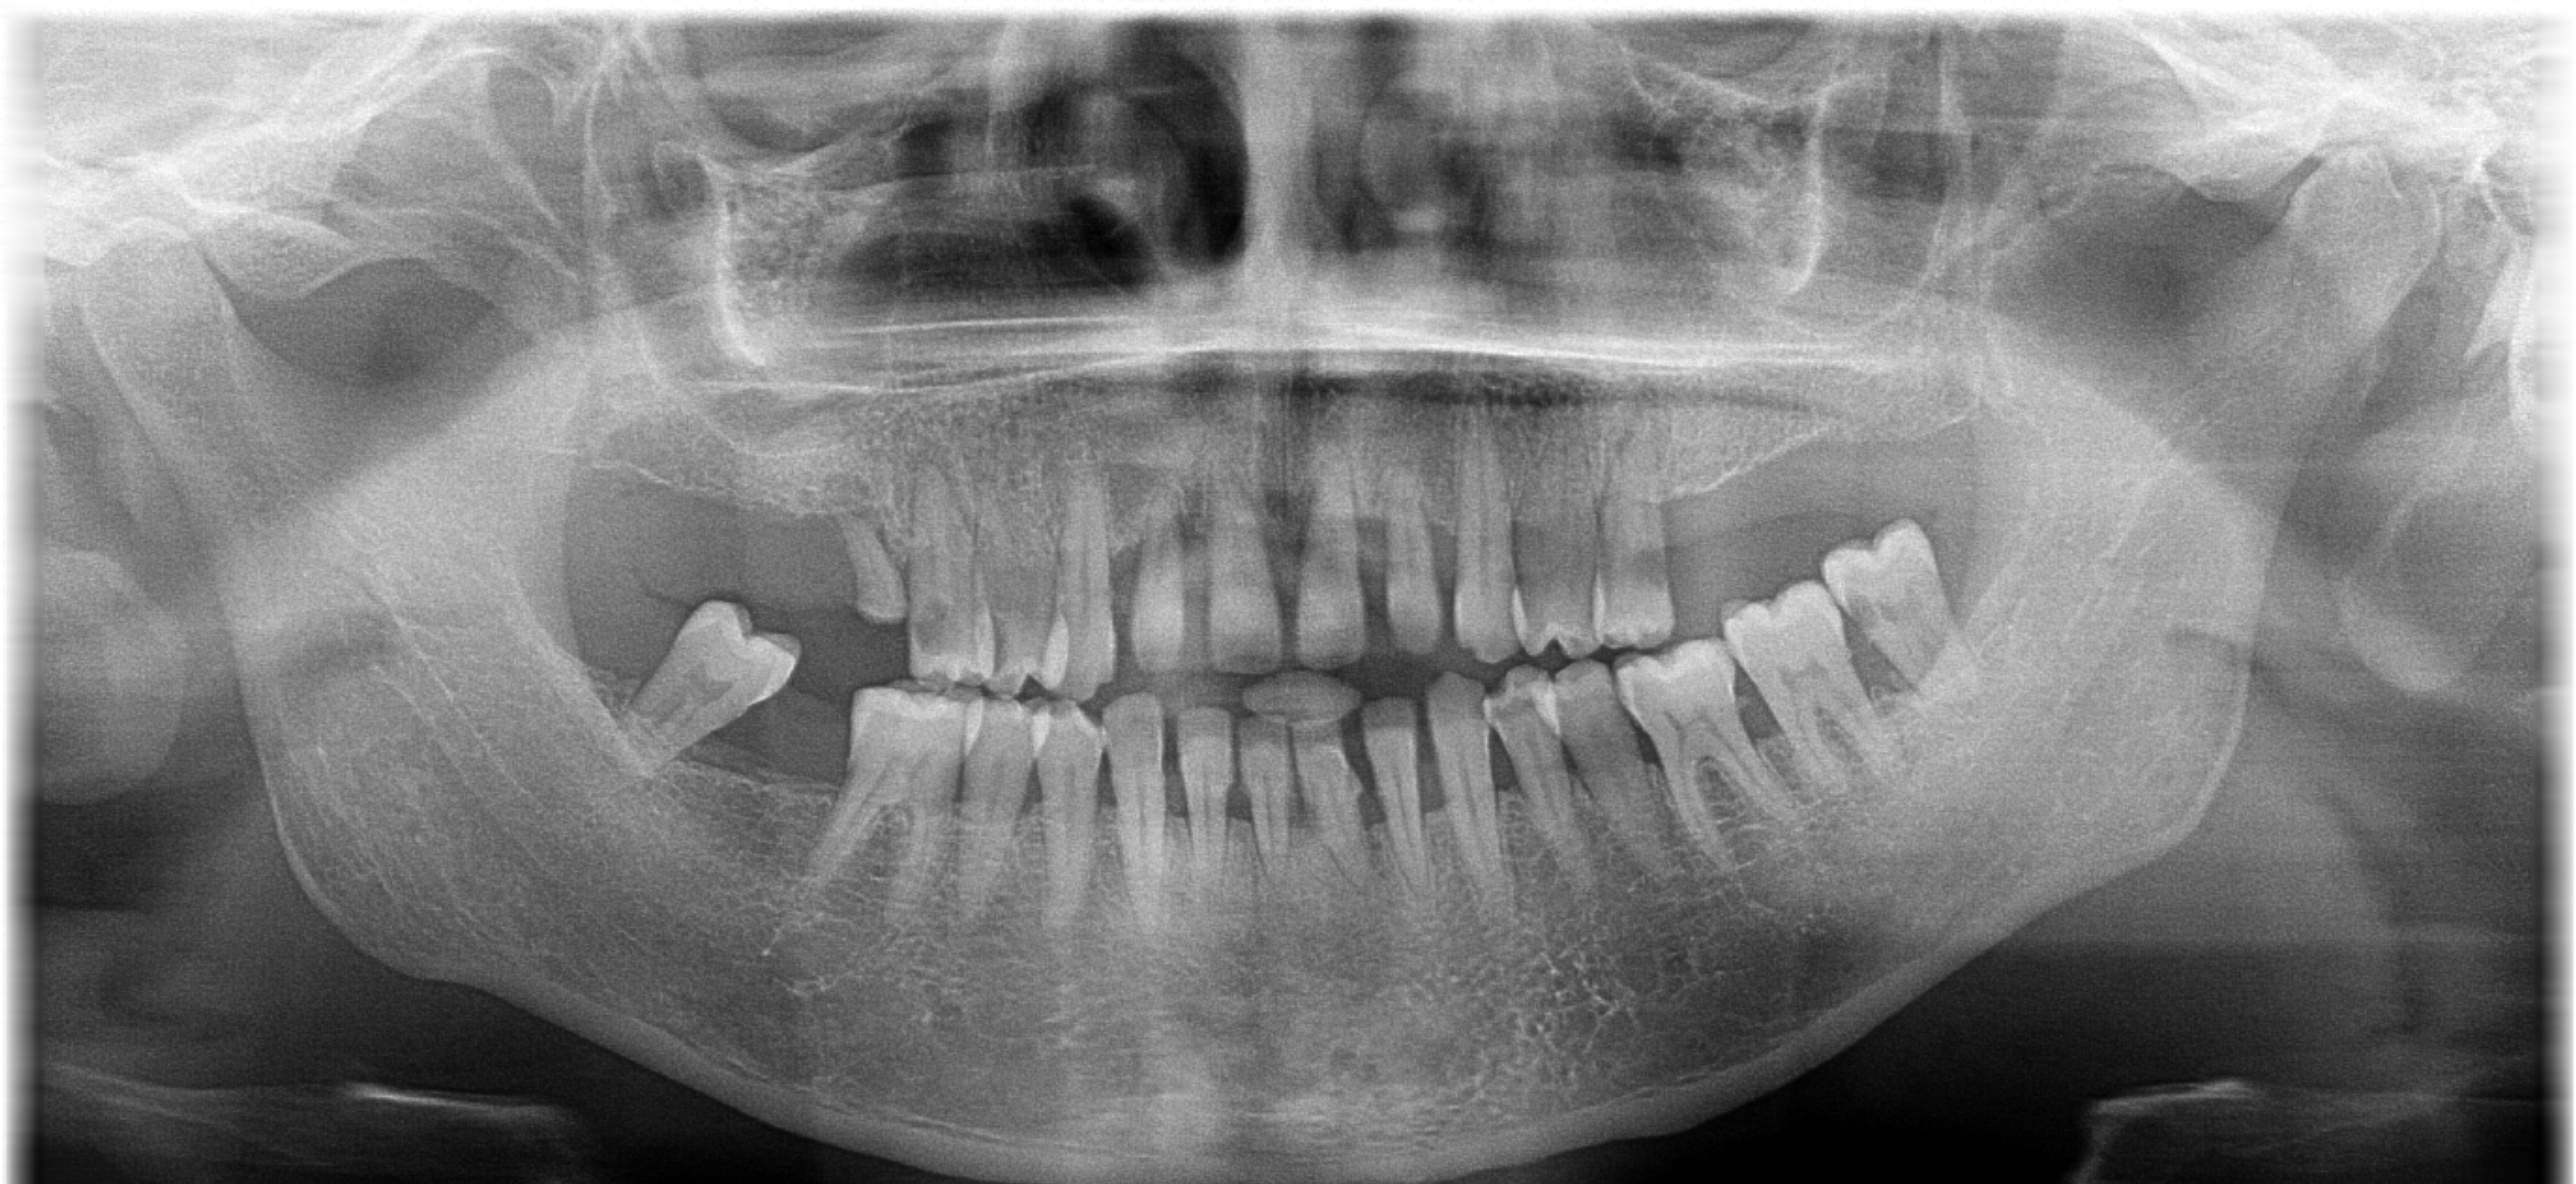cordal: (1796, 494, 2026, 729), (583, 571, 813, 806)
diastema: (1086, 486, 1153, 708), (1342, 463, 1410, 685), (1326, 680, 1393, 902), (1143, 672, 1211, 893), (1166, 480, 1232, 701), (1258, 471, 1324, 693), (1416, 460, 1482, 681), (1396, 663, 1462, 885)
enanismo_denticular: (795, 475, 938, 657)
zona_dentula: (1641, 414, 1944, 649), (619, 424, 859, 652), (667, 631, 890, 844)
